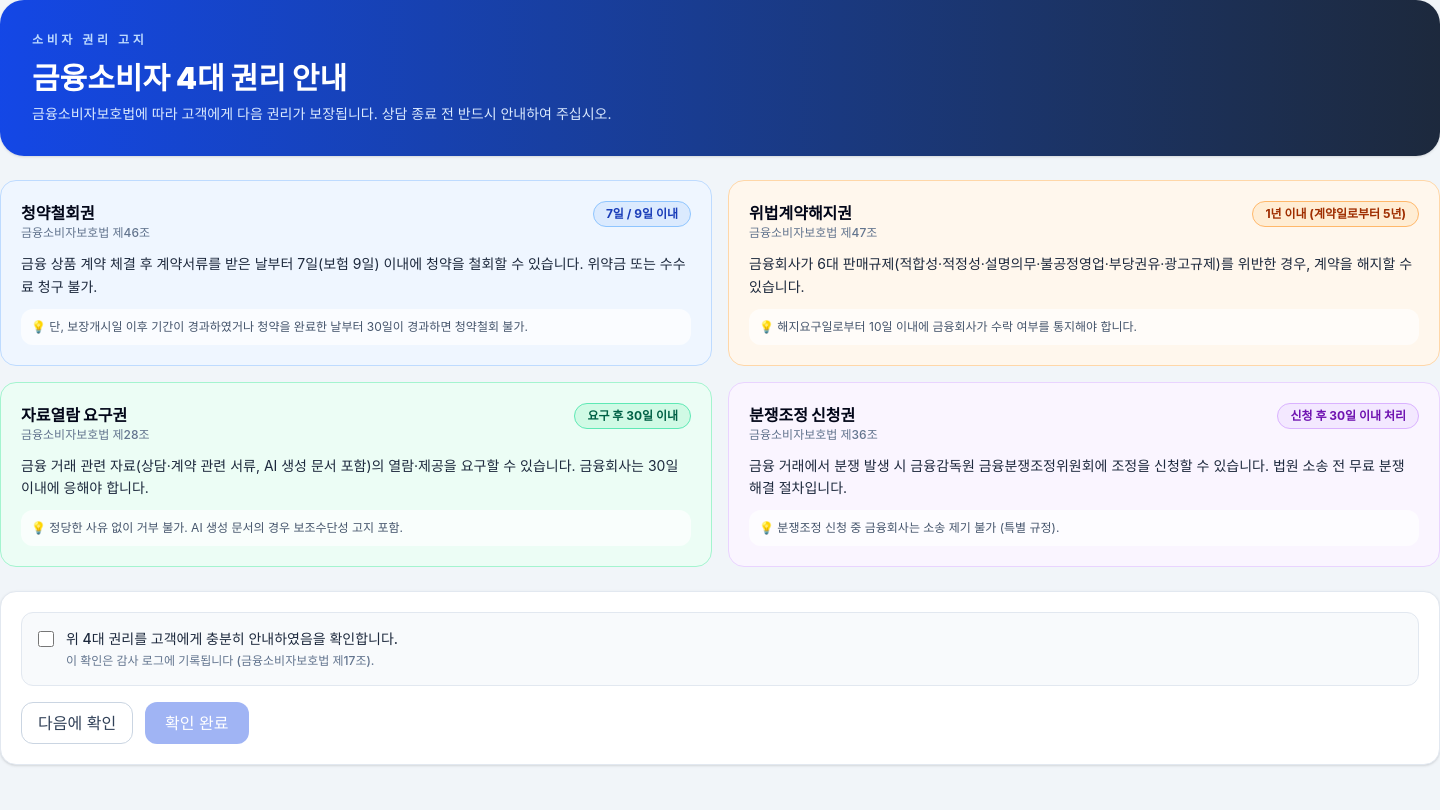
RightsNoticePage a11y › confirm button is disabled until checkbox checked
Expected: the button "확인 완료" is disabled, [145,702,248,744]
Click the checkbox at (46, 639), box [38,631,54,647]
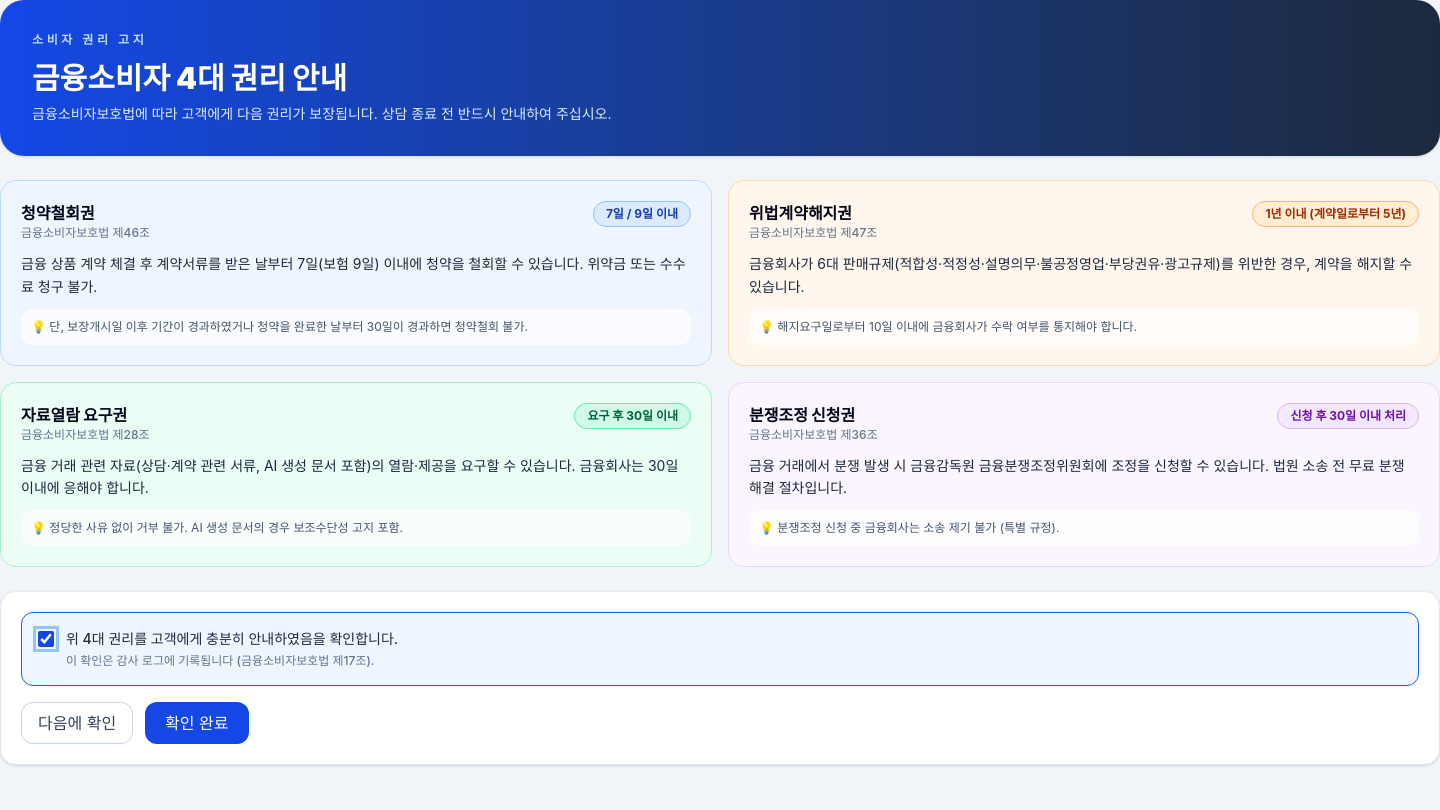
Expected: the button "확인 완료" is enabled, [145,702,248,744]
